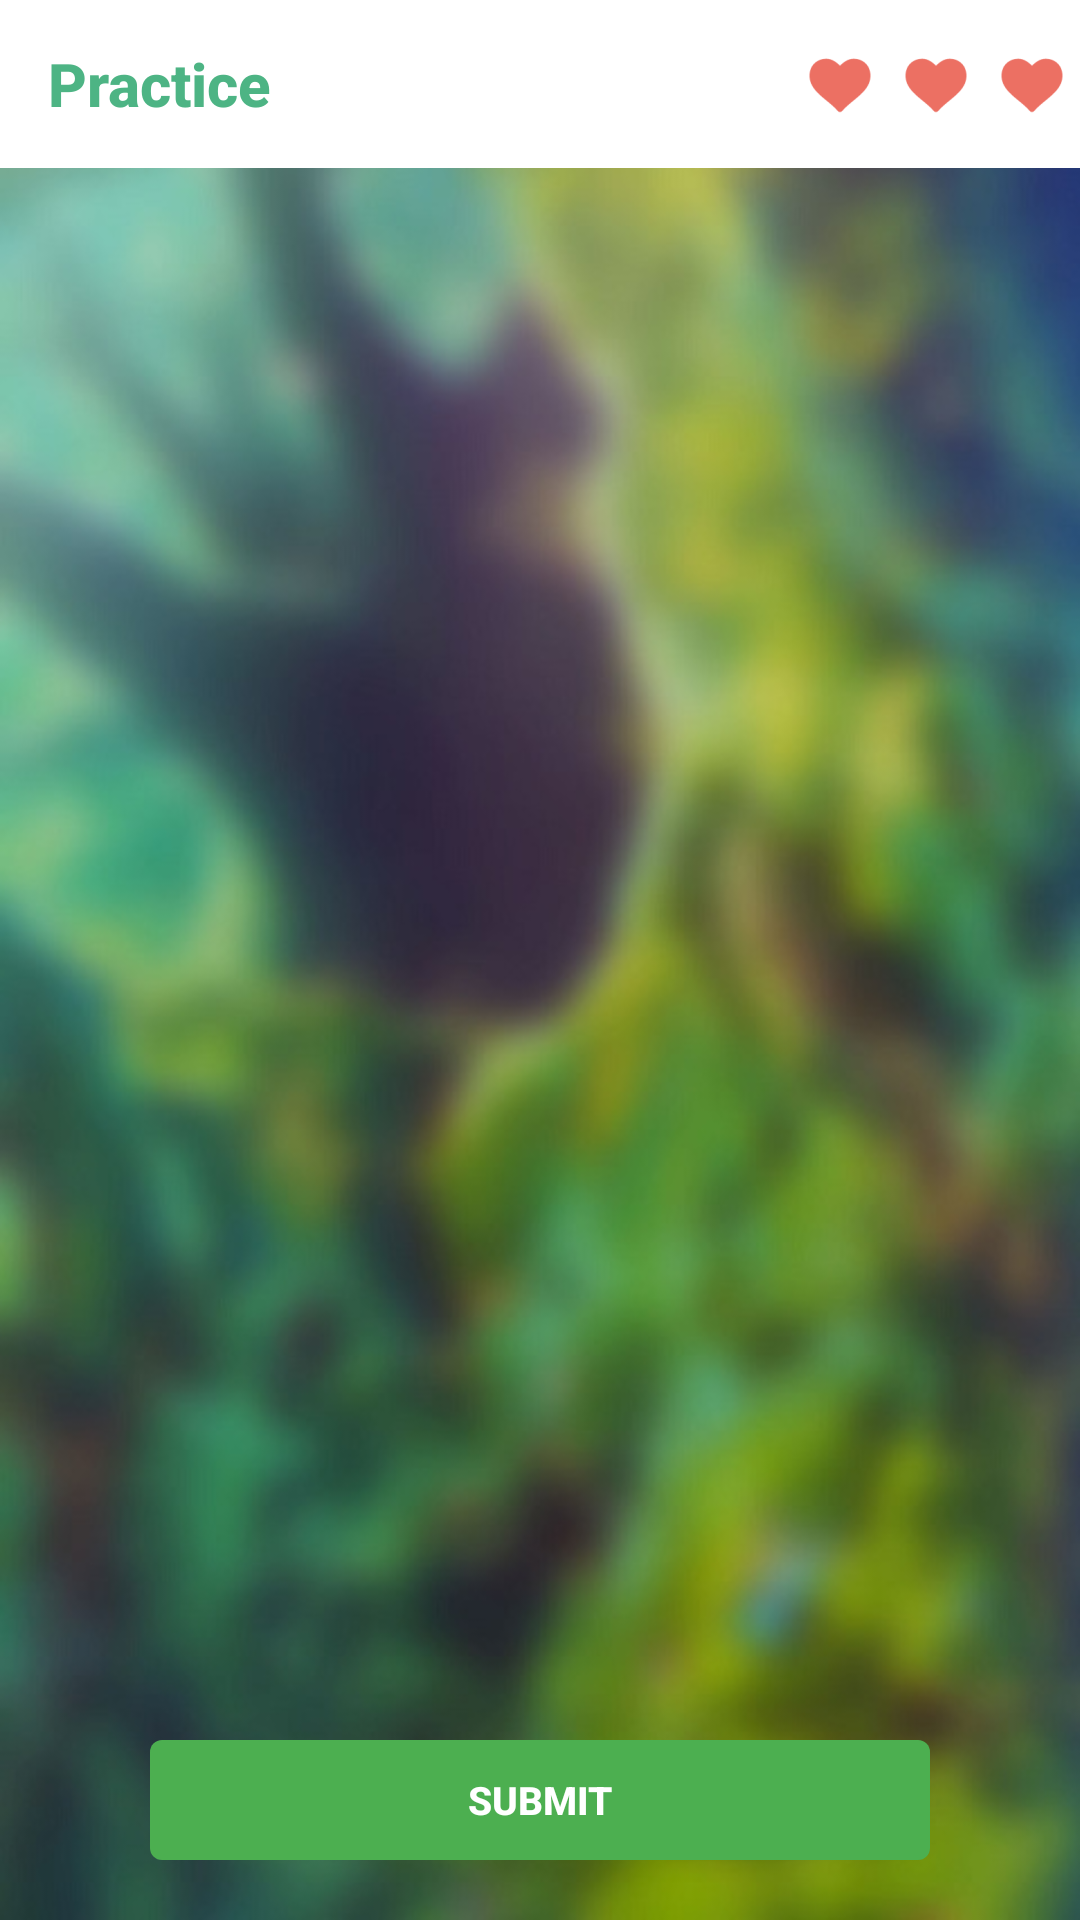

Screen size 1080*1920. Icon name, then its box in pixels as detection(x1, y1, x2, y2):
heart: detection(809, 58, 871, 112), detection(905, 58, 967, 112), detection(1001, 58, 1063, 112)
